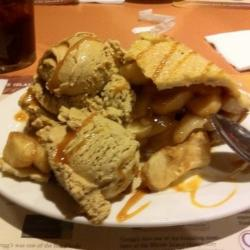apple_pie: (122, 24, 246, 190)
icecream: (24, 31, 145, 222)
